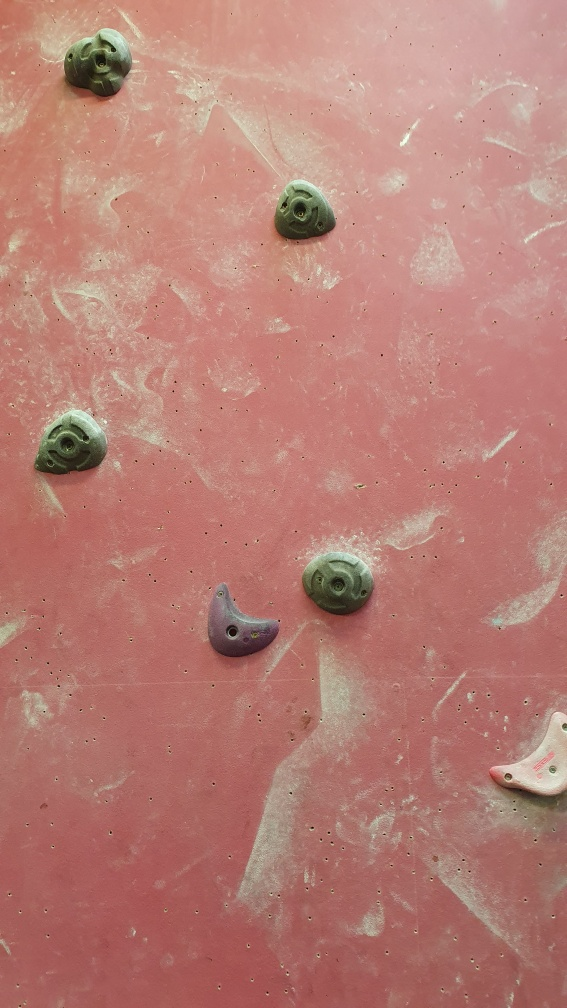Jug: (31, 405, 113, 479), (299, 547, 381, 617), (63, 25, 136, 98), (273, 176, 342, 244)
